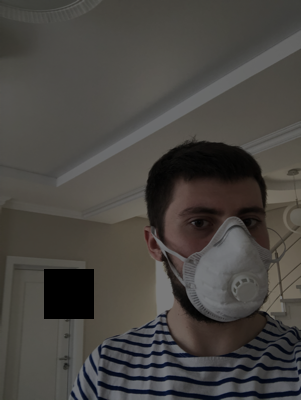with_mask: (166, 198, 272, 324)
